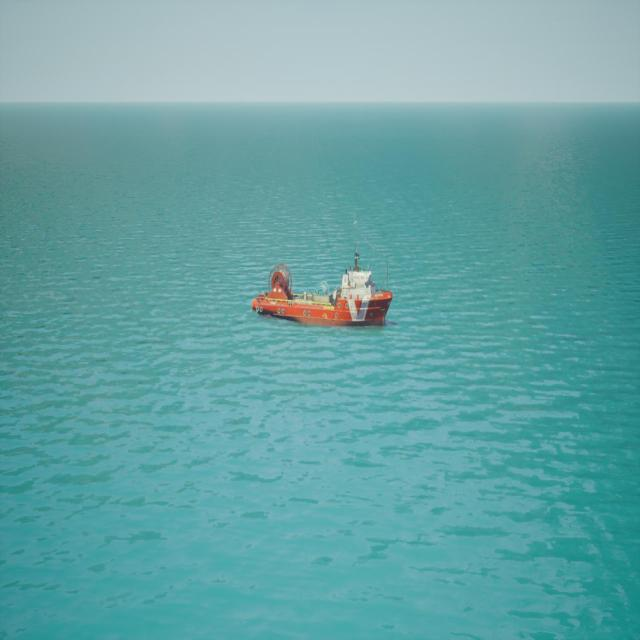tug boat: (252, 221, 397, 332)
